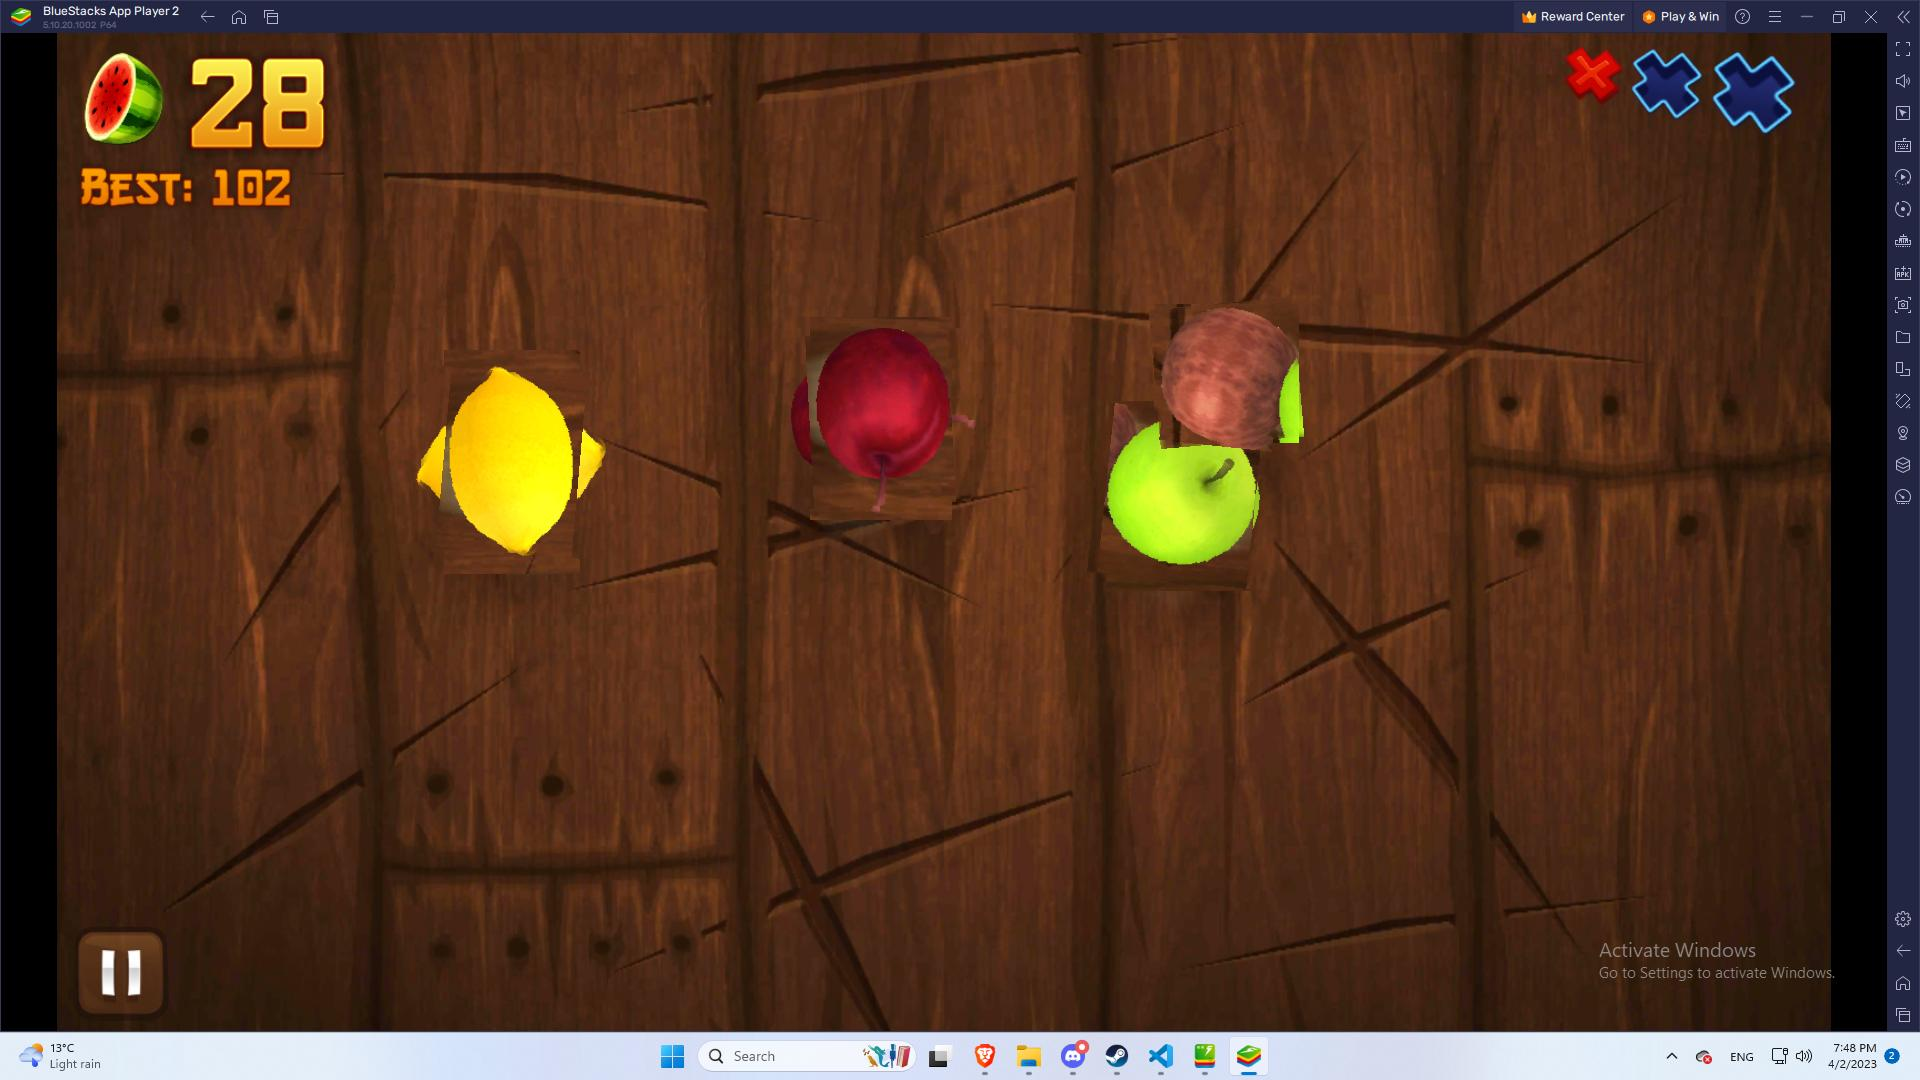fruit: (418, 369, 607, 556), (1092, 407, 1271, 585), (793, 330, 971, 508), (1155, 302, 1296, 447)
